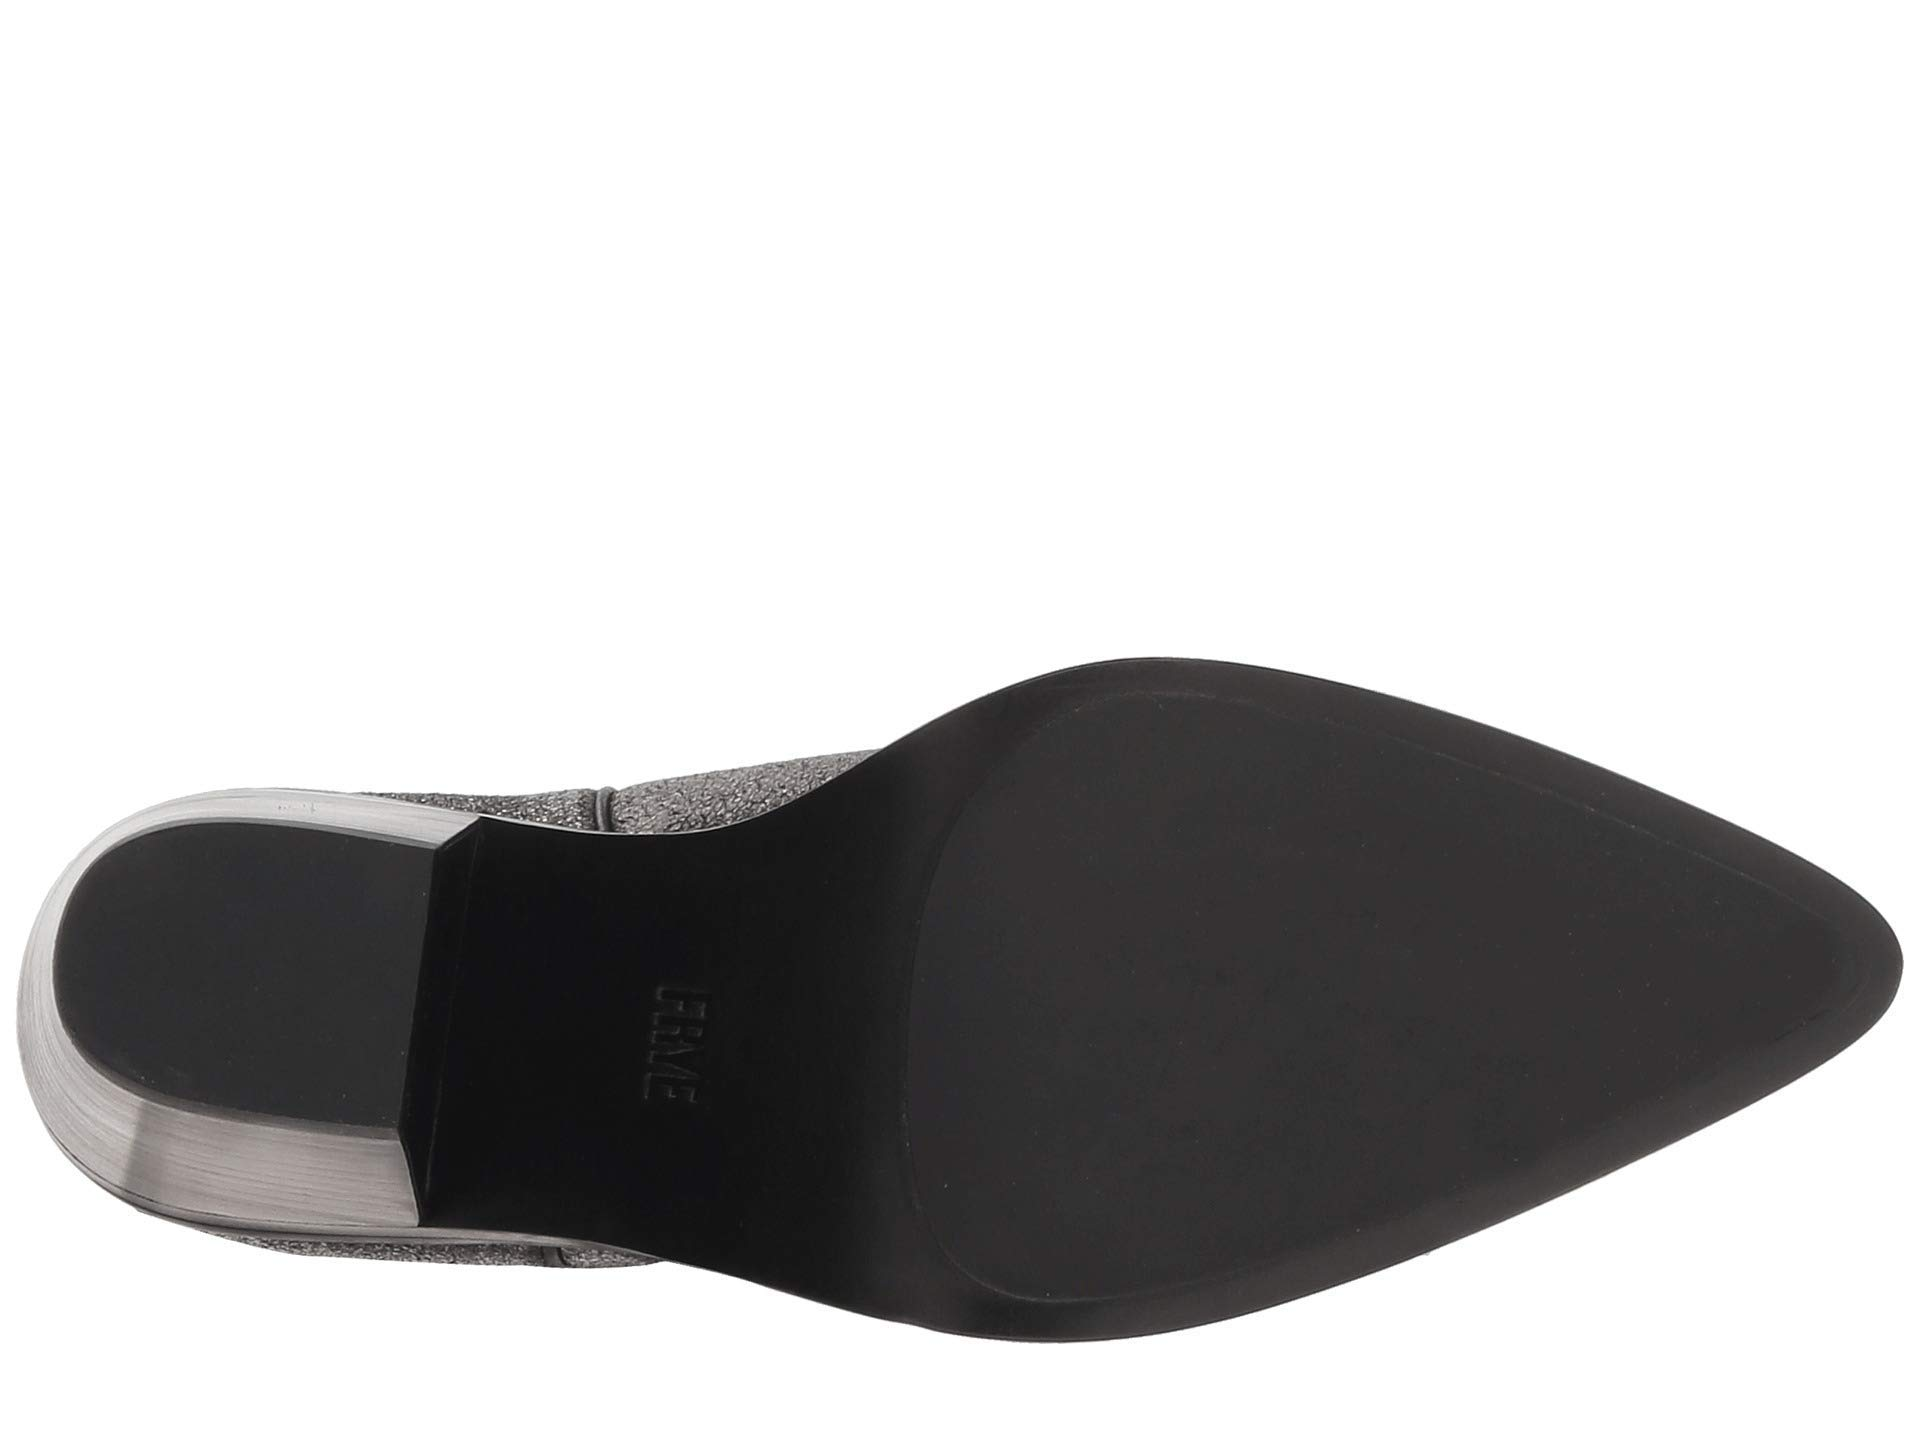other: (1061, 723, 1383, 1199), (1444, 836, 1687, 1063), (138, 841, 379, 1065)
